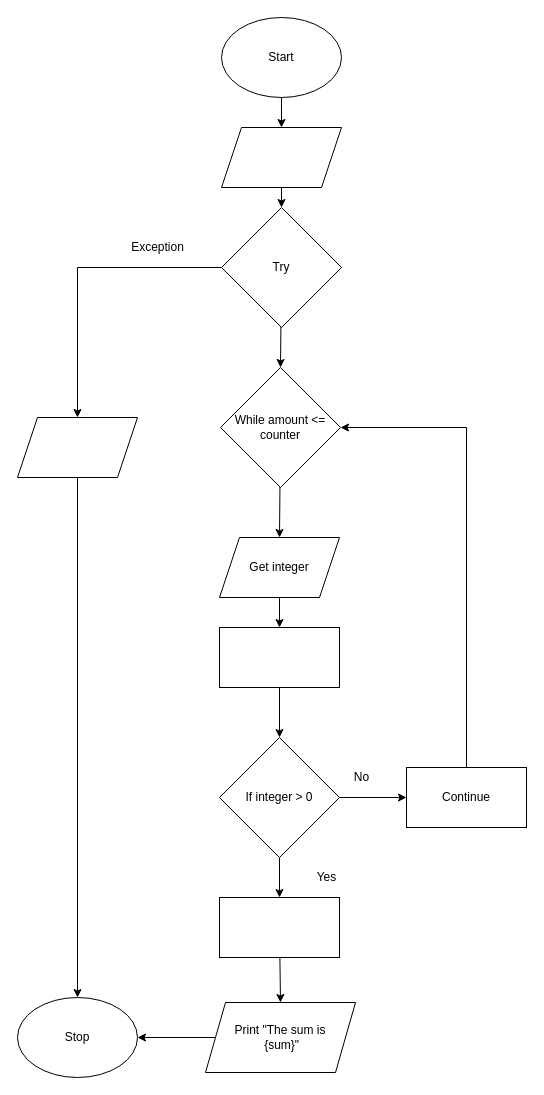
Some shapes in this 544 by 1095 pixel diagram are drawn without their labels. Here are the shapes that lost their labels. From the top down, the centre of each, then its label:
the point at 281,157: Get amount of integers
the point at 77,447: Print "This is not an integer"
the point at 279,657: loop counter == loop counter + 1
the point at 279,927: sum = sum + integer
